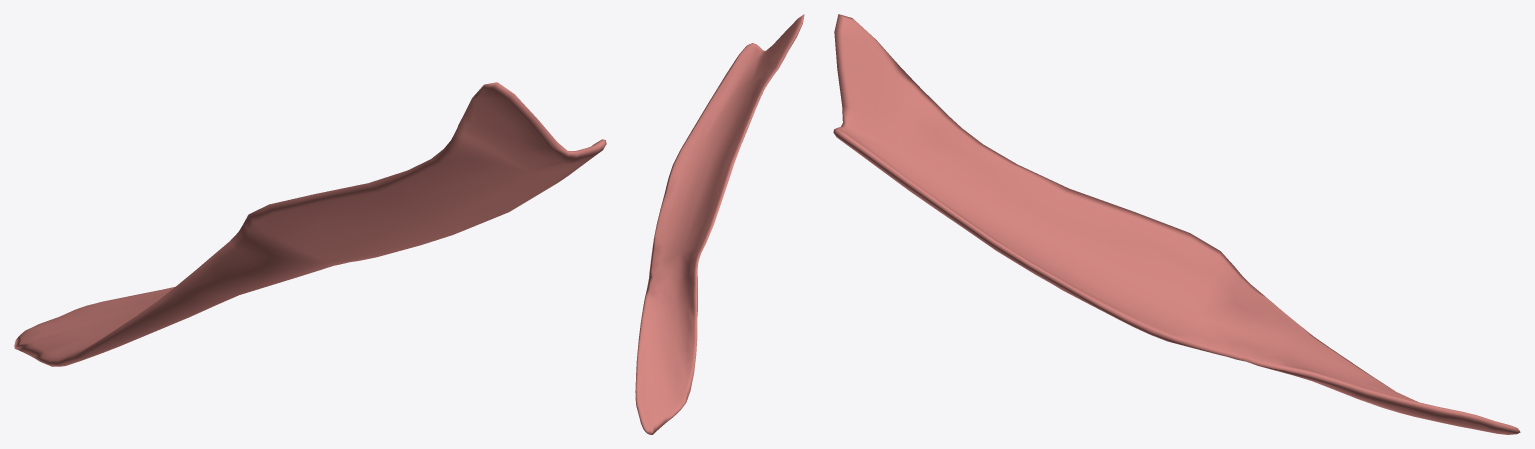
3 views of the same model, side by side, from view 1: azimuth 30°, elevation 25°; view 2: azimuth 150°, elevation 25°; view 3: azimuth 270°, elevation 25° (orthographic). The views are drawn at different scales.
Parts seen in each view (by area): view 1: ZA_5ec0afb99539f4a5; view 2: ZA_5ec0afb99539f4a5; view 3: ZA_5ec0afb99539f4a5.
Boxes of the visible parts, x1,y1,x2,y2 form: ZA_5ec0afb99539f4a5: (14,82,606,366); ZA_5ec0afb99539f4a5: (635,14,804,434); ZA_5ec0afb99539f4a5: (833,14,1520,434).
Size of the model in its own units: 0.0138 by 0.0293 by 0.04.
